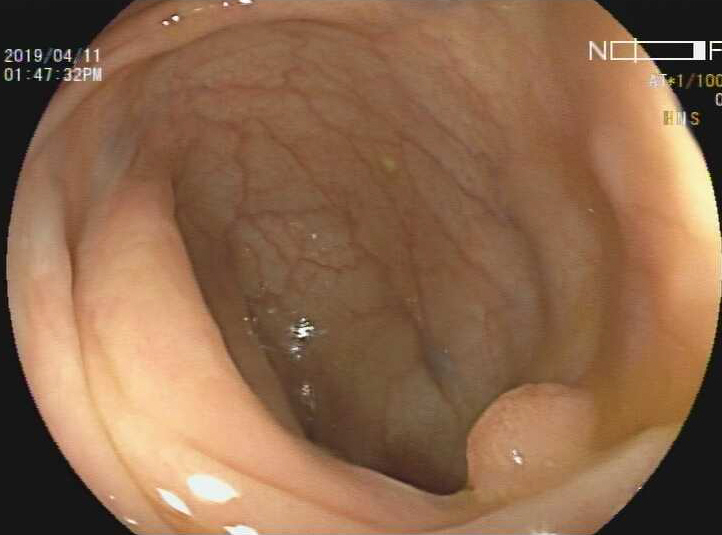adenoma: (461, 380, 597, 506)
